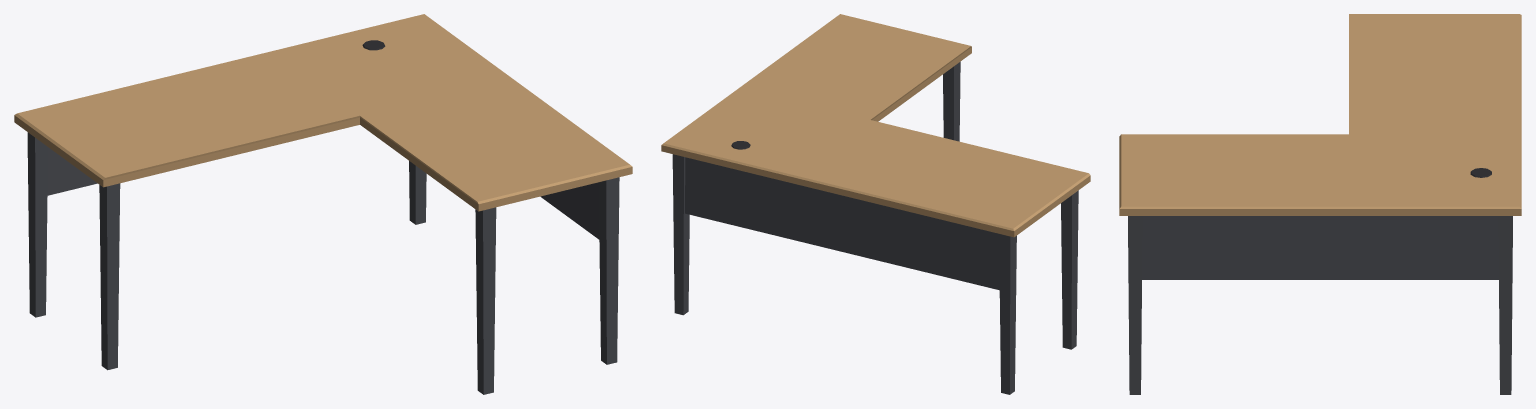
File: FN_Desk_Corner.obj
3 views of the same model, side by side, from view 1: azimuth 30°, elevation 25°; view 2: azimuth 150°, elevation 25°; view 3: azimuth 270°, elevation 25° (orthographic). The views are drawn at different scales.
Visible parts, largest first — view 1: FN_Desk_Corner; view 2: FN_Desk_Corner; view 3: FN_Desk_Corner.
Boxes of the visible parts, x1=… form: FN_Desk_Corner: x1=14, y1=14, x2=632, y2=394; FN_Desk_Corner: x1=661, y1=14, x2=1090, y2=394; FN_Desk_Corner: x1=1119, y1=14, x2=1521, y2=394.
Bounding box in the file's own units: 1.6 × 0.744 × 1.4.
Materials: 1 (1 with a texture image).
